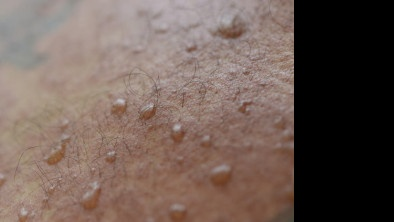SJS-TEN: (0, 0, 251, 222)
